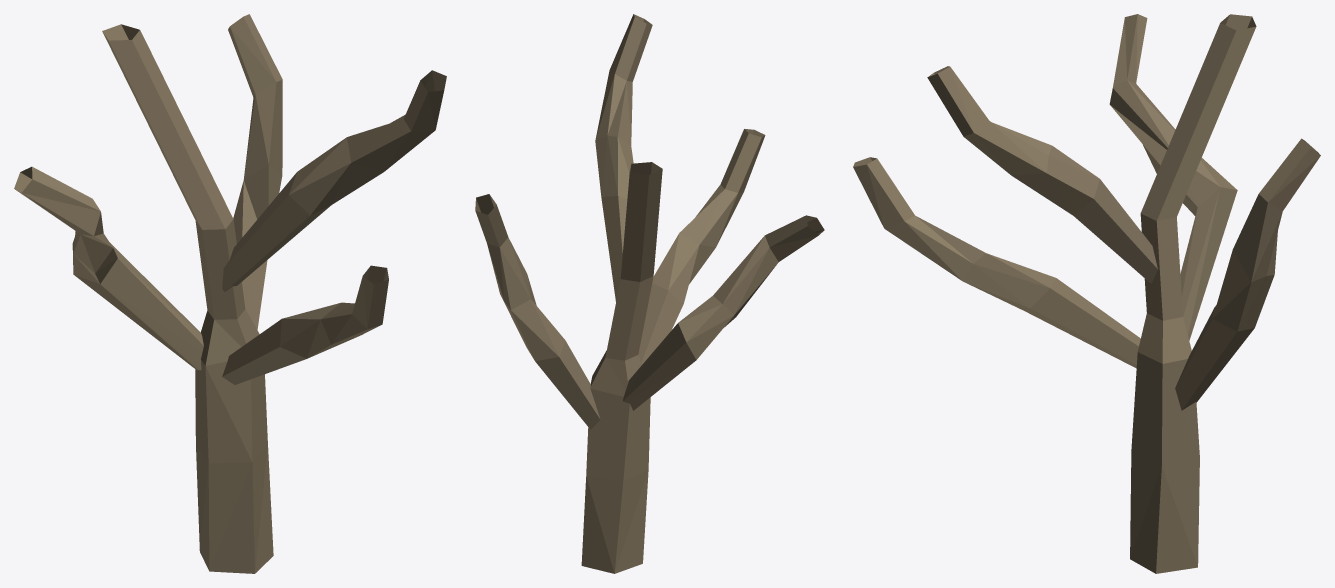
The model's file is Apple_7_3.fbx.
The picture shows the model from 3 angles, left to right: view 1: azimuth 30°, elevation 25°; view 2: azimuth 150°, elevation 25°; view 3: azimuth 270°, elevation 25°; orthographic projection. The views are drawn at different scales.
Parts seen in each view (by area): view 1: Apple_7_3; view 2: Apple_7_3; view 3: Apple_7_3.
Boxes of the visible parts, <box> form: Apple_7_3: <box>14,14,446,573</box>; Apple_7_3: <box>475,14,824,573</box>; Apple_7_3: <box>853,14,1320,573</box>.
Size of the model in its own units: 191 by 298 by 237.
